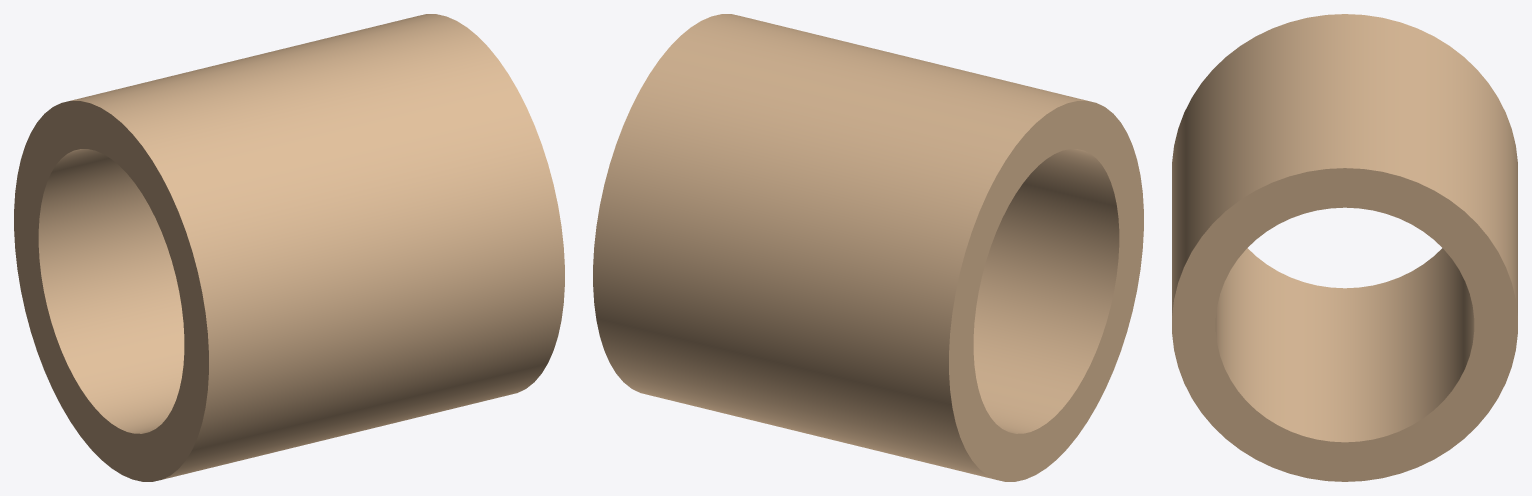
The model's file is ignition-coil-primary.glb.
The picture shows the model from 3 angles, left to right: view 1: azimuth 30°, elevation 25°; view 2: azimuth 150°, elevation 25°; view 3: azimuth 270°, elevation 25°; orthographic projection. The views are drawn at different scales.
Parts seen in each view (by area): view 1: world; view 2: world; view 3: world.
Boxes of the visible parts, left/top/right/bottom form: world: left=14, top=14, right=564, bottom=481; world: left=593, top=14, right=1143, bottom=481; world: left=1172, top=14, right=1517, bottom=481.
Bounding box in the file's own units: 0.04 × 0.038 × 0.0379.
